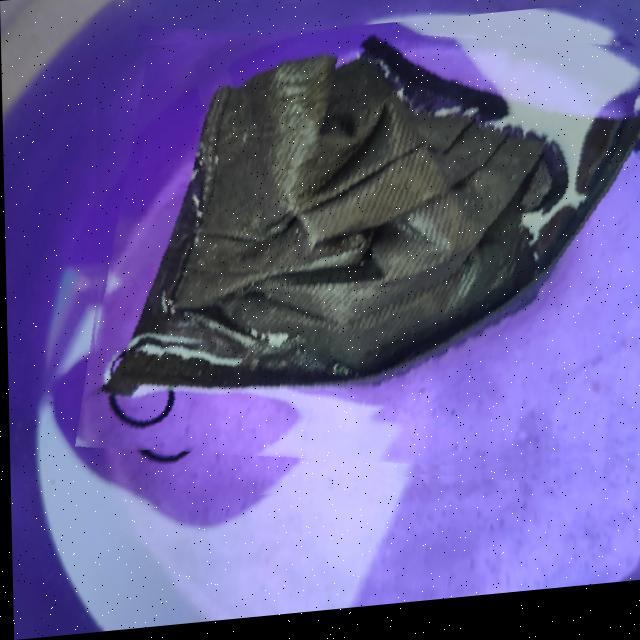mask: (83, 11, 640, 517)
